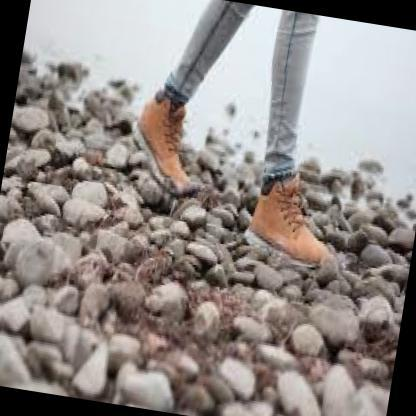safety-shoe: (234, 163, 356, 292), (116, 85, 207, 211)
